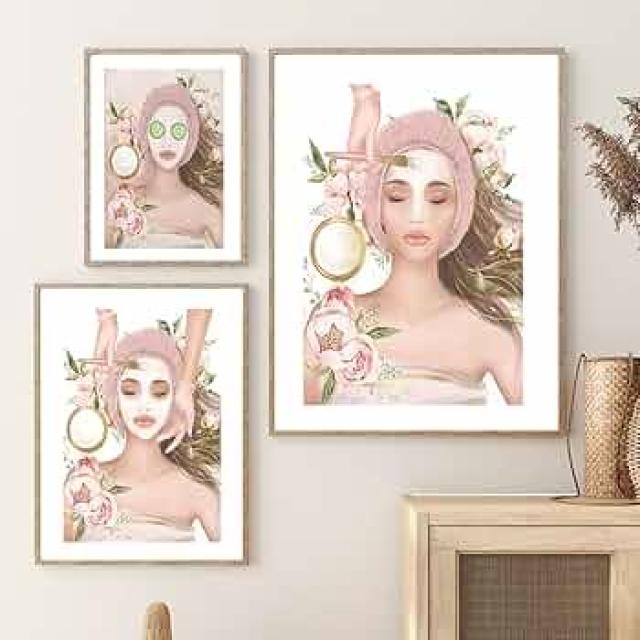painting: (270, 47, 565, 436), (34, 283, 249, 564), (84, 49, 248, 265)
